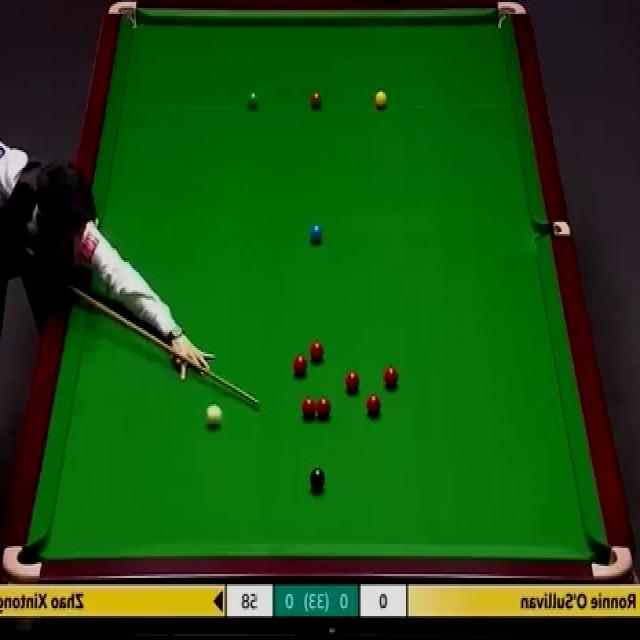black-ball: (309, 468, 325, 492)
blue-ball: (308, 223, 324, 246)
brown-ball: (310, 91, 322, 110)
green-ball: (246, 90, 258, 109)
red-ball: (308, 339, 327, 365), (290, 355, 310, 377), (344, 367, 360, 394), (365, 392, 381, 418), (300, 396, 316, 421), (316, 397, 332, 420), (384, 365, 399, 389)
white-ball: (207, 403, 222, 427)
yellow-ball: (376, 88, 388, 111)
